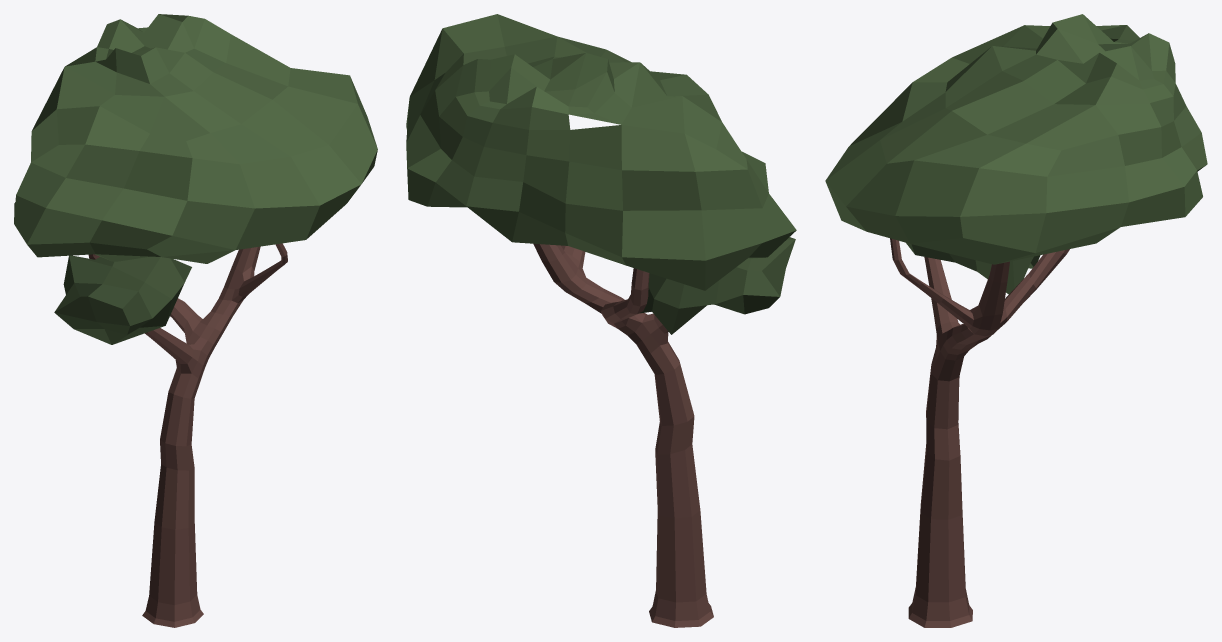
Rendered from Apple_Harvested.glb.
The picture shows the model from 3 angles, left to right: view 1: azimuth 30°, elevation 25°; view 2: azimuth 150°, elevation 25°; view 3: azimuth 270°, elevation 25°; orthographic projection. The views are drawn at different scales.
Parts seen in each view (by area): view 1: Apple_Harvested; view 2: Apple_Harvested; view 3: Apple_Harvested.
Boxes of the visible parts, <box> form: Apple_Harvested: <box>14,14,377,627</box>; Apple_Harvested: <box>406,14,796,627</box>; Apple_Harvested: <box>825,14,1207,627</box>.
Size of the model in its own units: 1.8 by 2.76 by 1.58.
